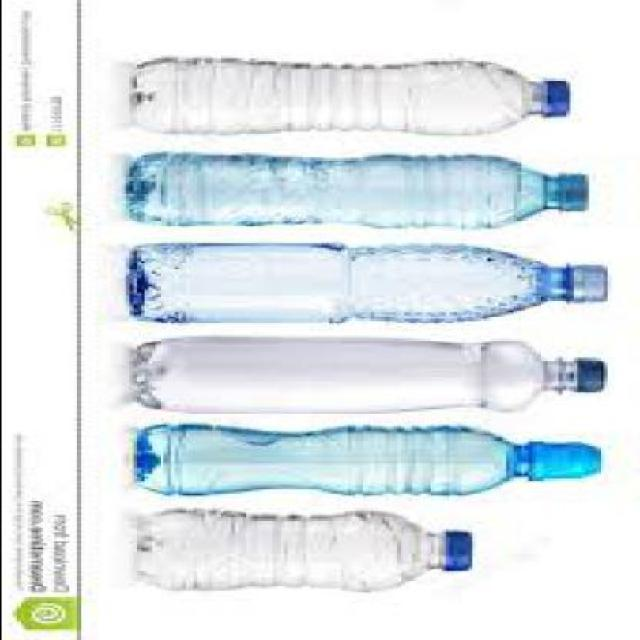PLASTIC: (128, 246, 610, 328), (128, 341, 610, 416), (128, 155, 587, 231), (136, 426, 606, 500), (128, 61, 572, 138), (135, 513, 471, 593), (523, 444, 606, 482), (568, 268, 610, 308), (440, 532, 474, 574), (572, 360, 610, 397), (554, 177, 591, 214), (542, 82, 576, 121)
